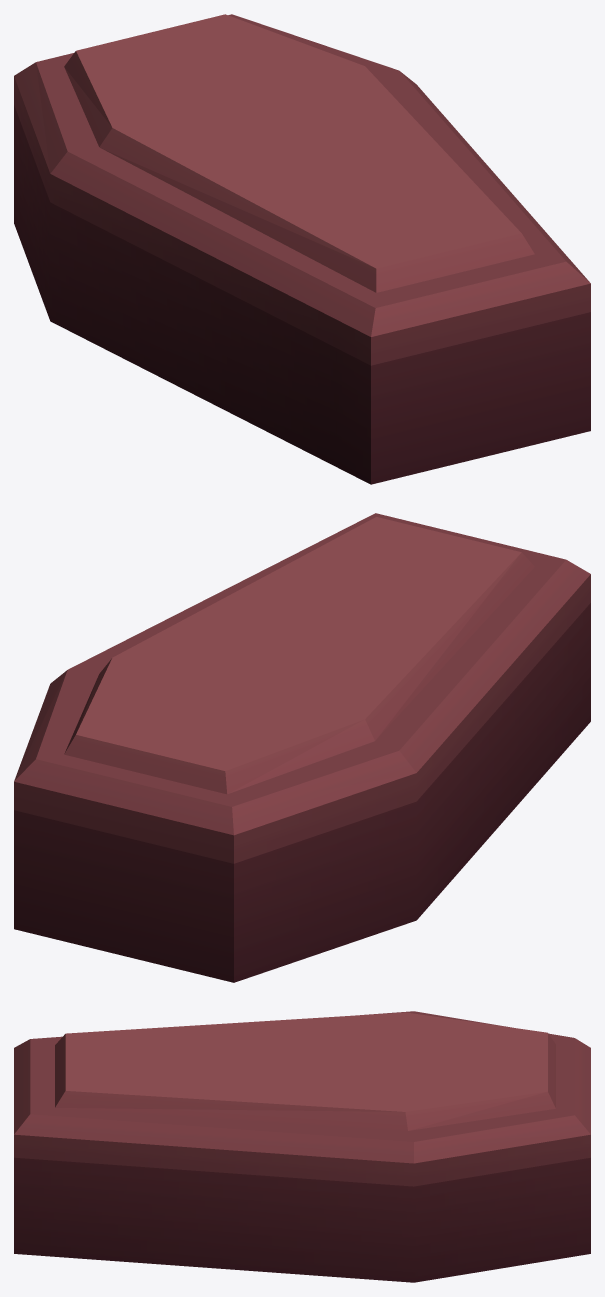
File: Coffin 01.FBX
The picture shows the model from 3 angles, top to bottom: view 1: azimuth 30°, elevation 25°; view 2: azimuth 150°, elevation 25°; view 3: azimuth 270°, elevation 25°; orthographic projection. The views are drawn at different scales.
Visible parts, largest first — view 1: Coffin Cover 01, Coffin 01; view 2: Coffin Cover 01, Coffin 01; view 3: Coffin Cover 01, Coffin 01.
Boxes of the visible parts, left/top/right/bottom form: Coffin Cover 01: left=14, top=14, right=590, bottom=365; Coffin 01: left=14, top=105, right=590, bottom=484; Coffin Cover 01: left=14, top=513, right=590, bottom=863; Coffin 01: left=14, top=603, right=590, bottom=982; Coffin Cover 01: left=14, top=1011, right=590, bottom=1186; Coffin 01: left=14, top=1157, right=590, bottom=1282.
Size of the model in its own units: 180 by 86.2 by 304.
Materials: 1 (1 with a texture image).
